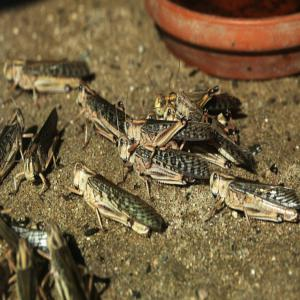locust: (70, 155, 152, 244), (212, 162, 300, 241)
